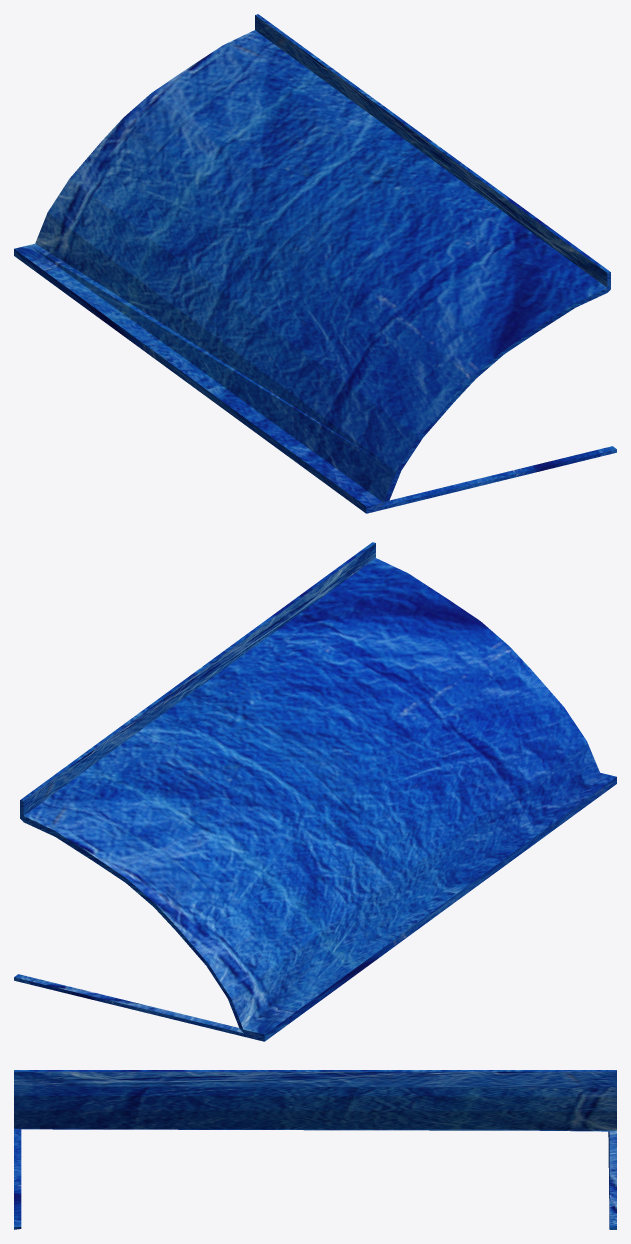
The model's file is roof1.FBX.
The picture shows the model from 3 angles, top to bottom: view 1: azimuth 30°, elevation 25°; view 2: azimuth 150°, elevation 25°; view 3: azimuth 270°, elevation 25°; orthographic projection. The views are drawn at different scales.
Parts seen in each view (by area): view 1: Box001; view 2: Box001; view 3: Box001.
Boxes of the visible parts, x1,y1,x2,y2 form: Box001: (14, 14, 616, 513); Box001: (14, 542, 616, 1041); Box001: (14, 1070, 616, 1229).
Bounding box in the file's own units: 12.55 × 8.71 × 30.57.
